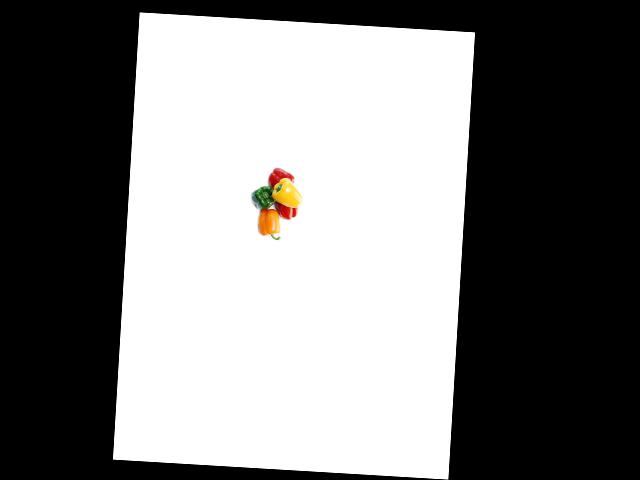bell_pepper: (246, 179, 282, 212)
